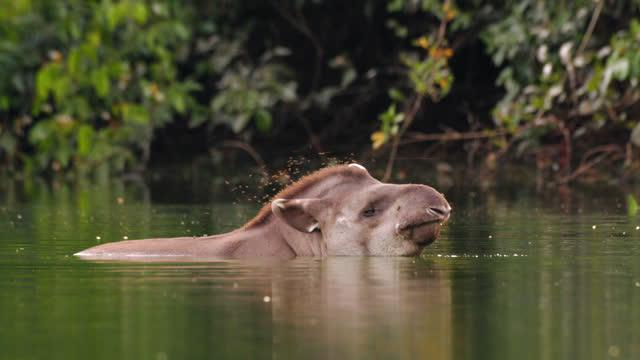Anta: (75, 154, 458, 264)
